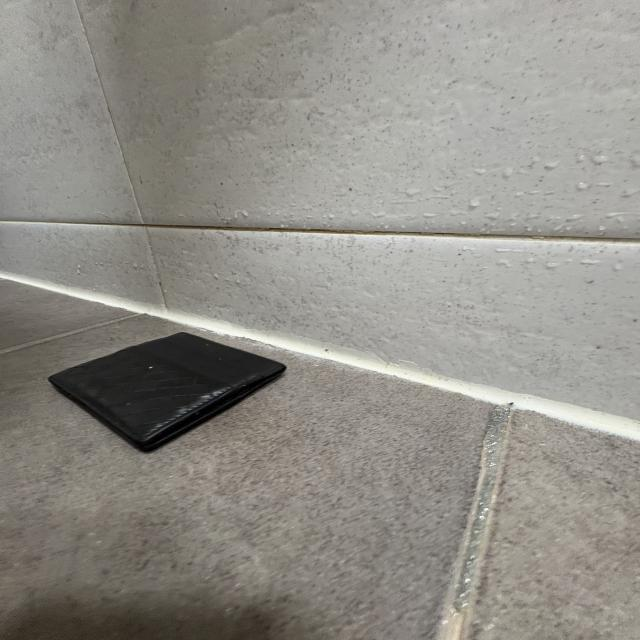wallet: (44, 332, 290, 456)
